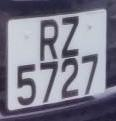2: (58, 56, 84, 101)
5: (13, 61, 39, 108)
7: (37, 60, 62, 105), (80, 52, 100, 95)
R: (37, 17, 61, 62)
Z: (59, 12, 80, 59)
